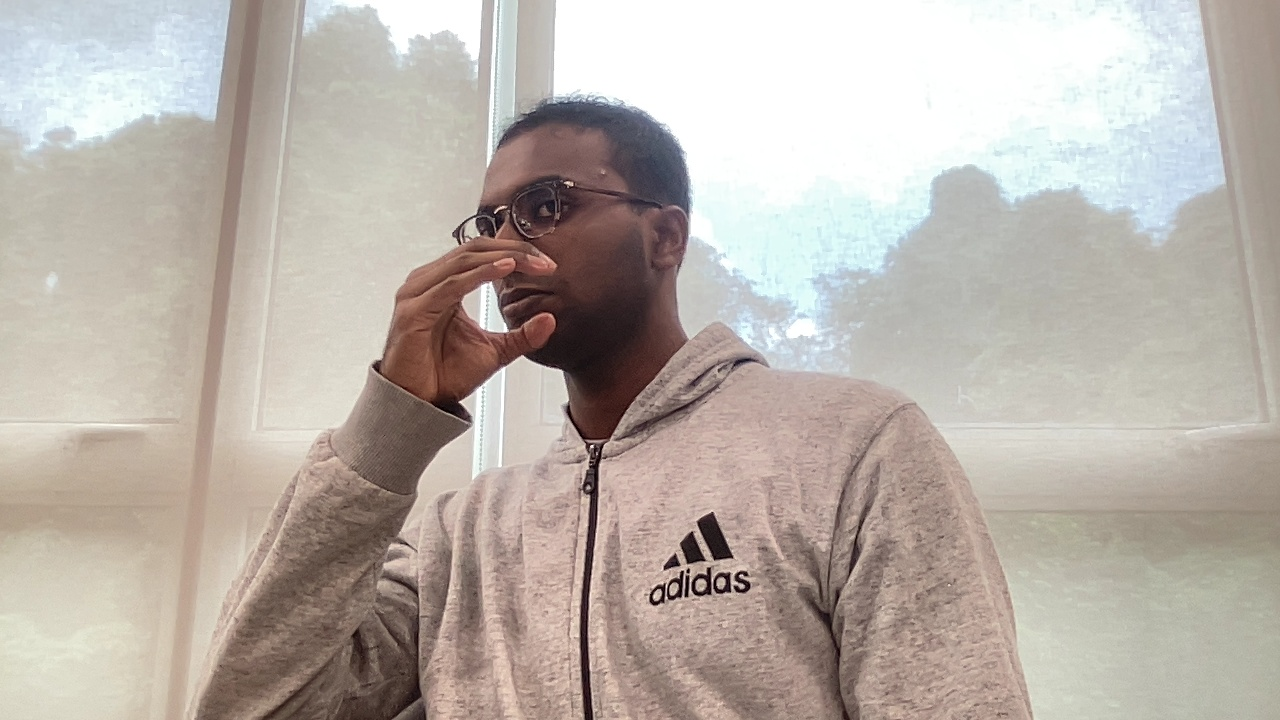drink: (386, 232, 559, 406)
